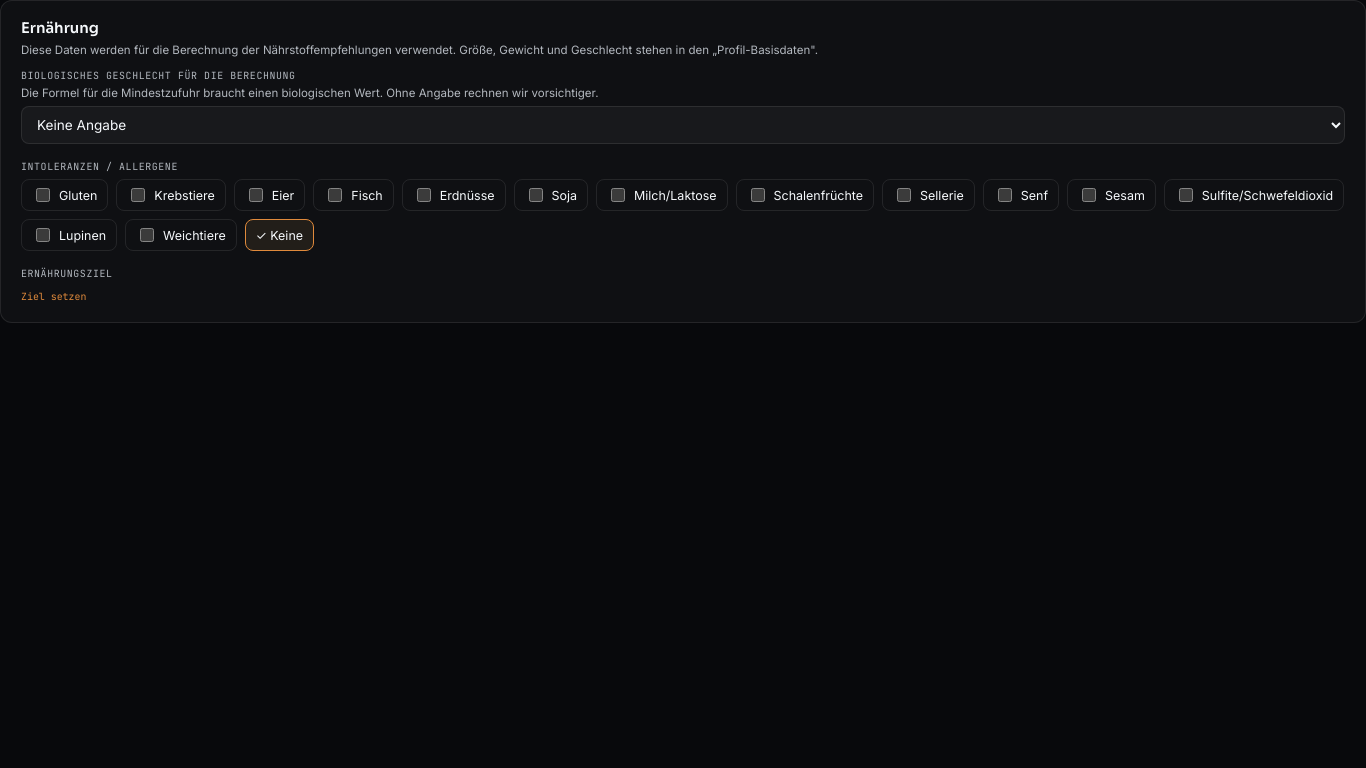
NutritionSection › zeigt Fehler bei fehlgeschlagenem Ziel-Speichern
Step 1. Click the button "Ziel setzen" → (54, 296), box x1=21 y1=290 x2=86 y2=303
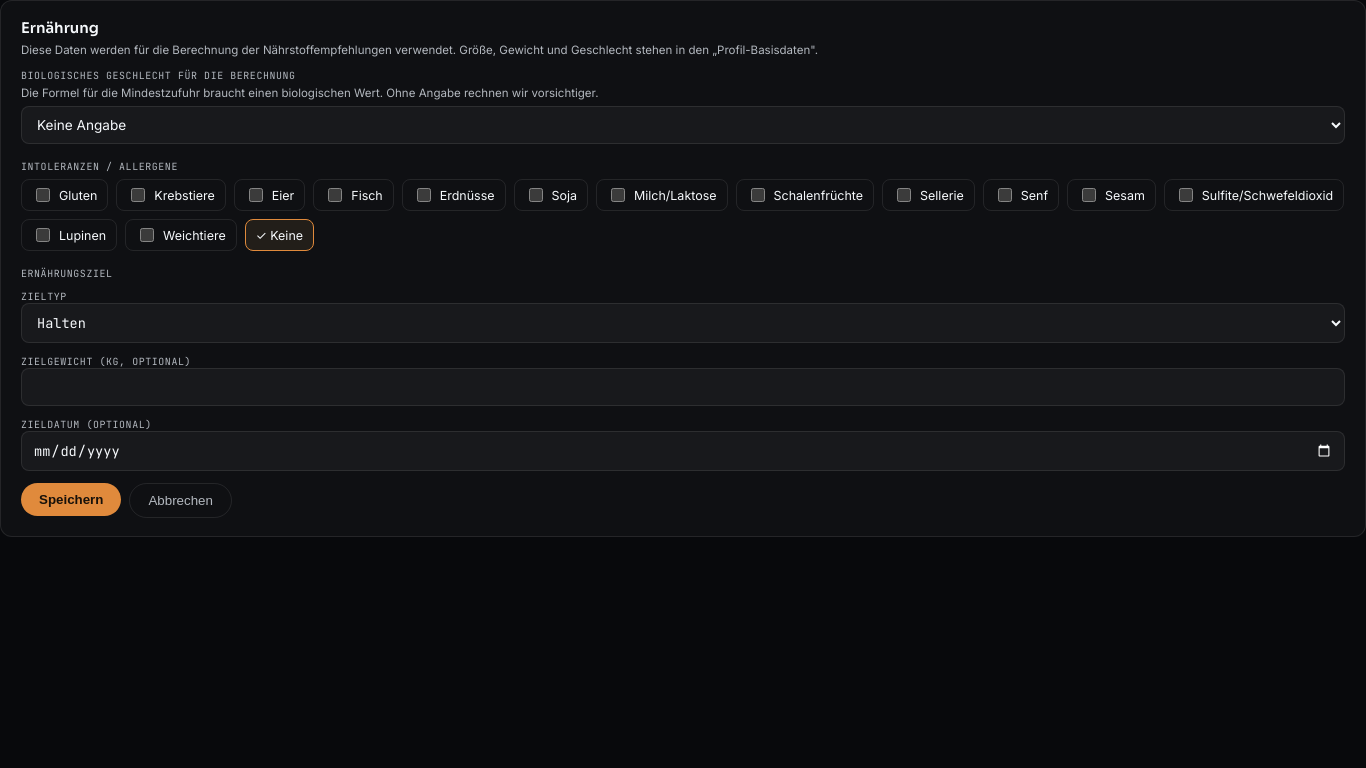
Step 2. Click the button "Speichern" → (71, 500), box x1=21 y1=483 x2=122 y2=516
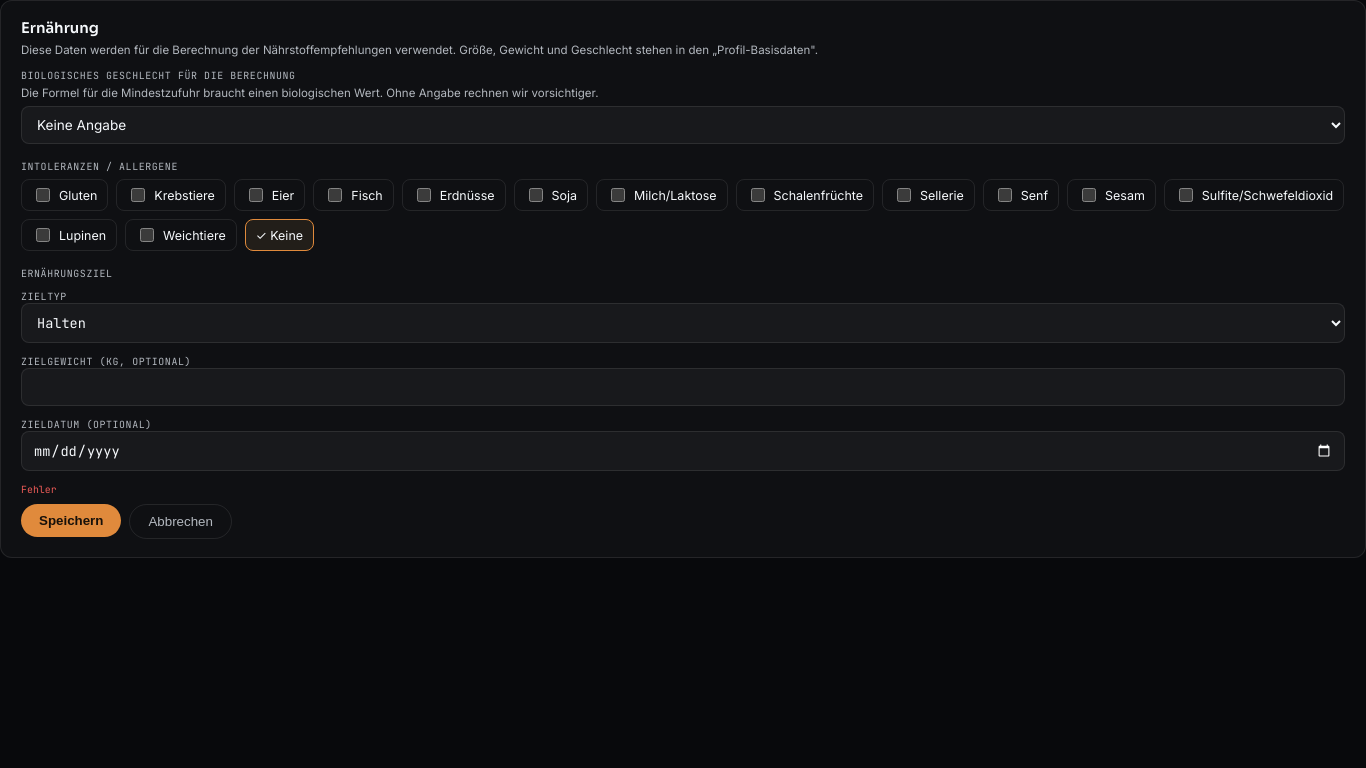
expect the text "Fehler" is shown: met, box x1=21 y1=483 x2=57 y2=496
